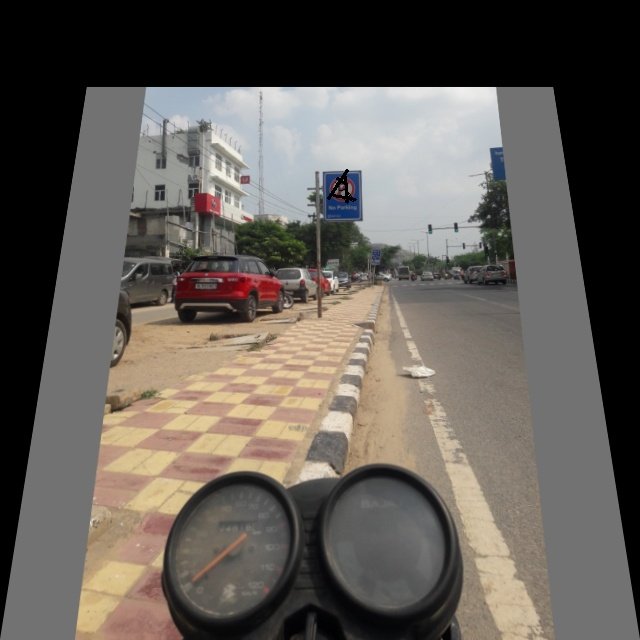No_Parking: (323, 170, 362, 204)
